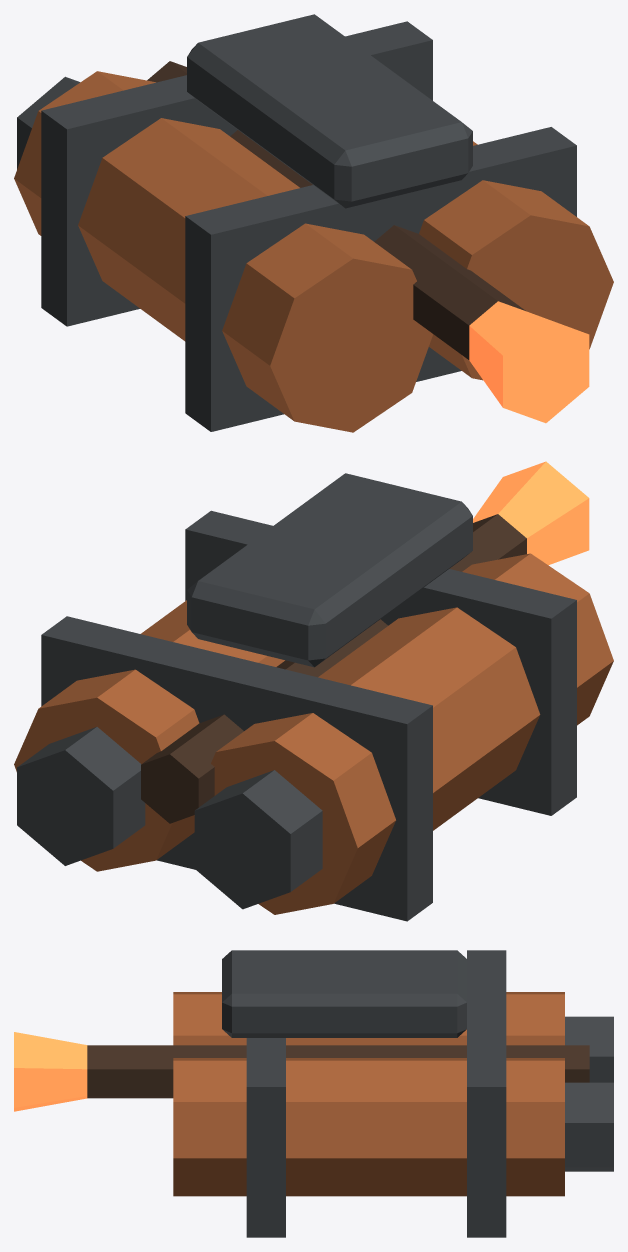
Rendered from mod_incendiary_kit.glb.
3 views of the same model, one above another, from view 1: azimuth 30°, elevation 25°; view 2: azimuth 150°, elevation 25°; view 3: azimuth 270°, elevation 25° (orthographic). The views are drawn at different scales.
Parts seen in each view (by area): view 1: incendiary_kit; view 2: incendiary_kit; view 3: incendiary_kit.
Part boxes in pixels (x1=…): incendiary_kit: x1=14, y1=14, x2=613, y2=432; incendiary_kit: x1=14, y1=461, x2=613, y2=921; incendiary_kit: x1=14, y1=950, x2=613, y2=1237.
Bounding box in the file's own units: 0.132 × 0.089 × 0.245.
